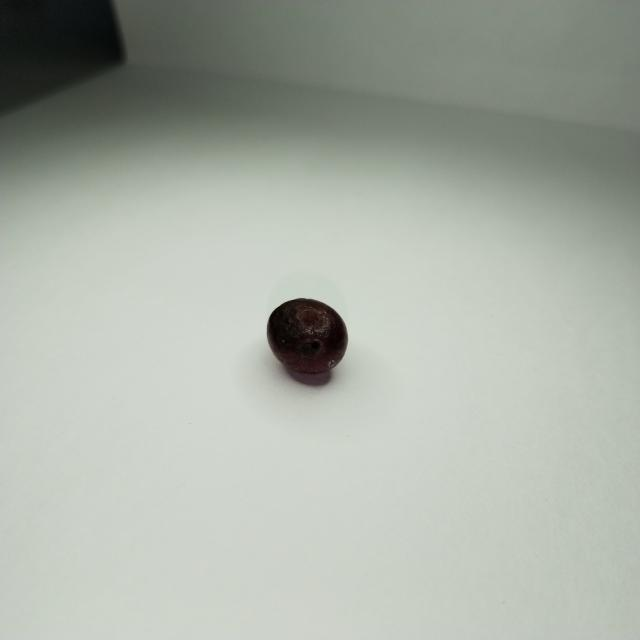Infectado: (266, 299, 348, 376)
